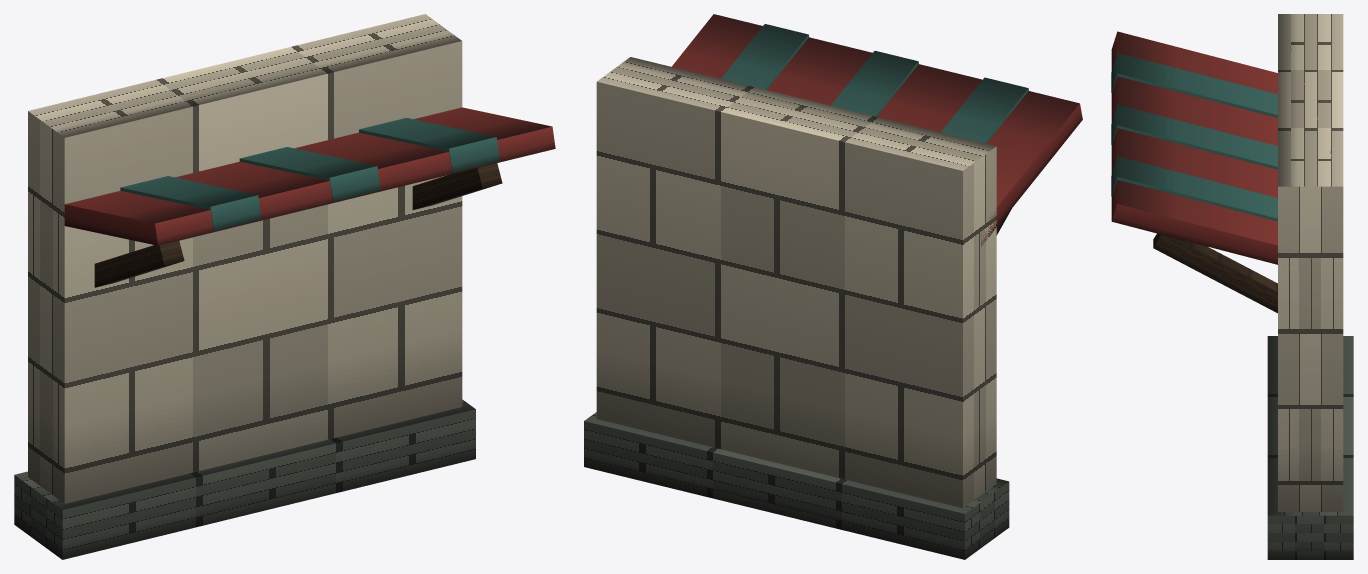
The model's file is awning.gltf.
The picture shows the model from 3 angles, left to right: view 1: azimuth 30°, elevation 25°; view 2: azimuth 150°, elevation 25°; view 3: azimuth 270°, elevation 25°; orthographic projection. The views are drawn at different scales.
Visible parts, largest first — view 1: awning; view 2: awning; view 3: awning.
Boxes of the visible parts, box(x1,y1,x2,y2) form: awning: box(14, 14, 555, 559); awning: box(584, 14, 1082, 559); awning: box(1111, 14, 1353, 559).
Size of the model in its own units: 1.04 by 1 by 0.5929.
1 material, 1 textured.
